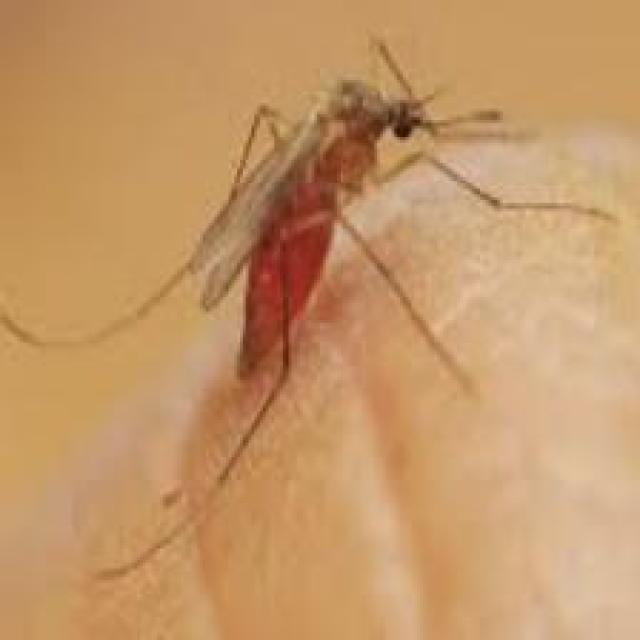Culex: (0, 30, 620, 584)
